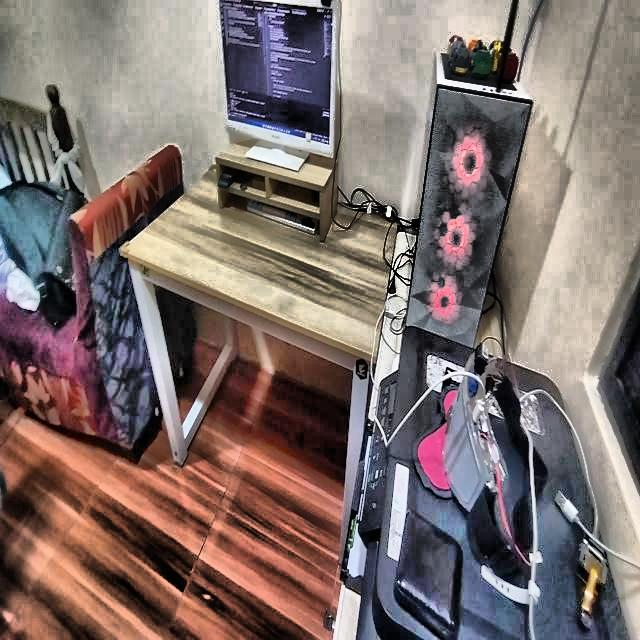mesa: (130, 153, 382, 488)
